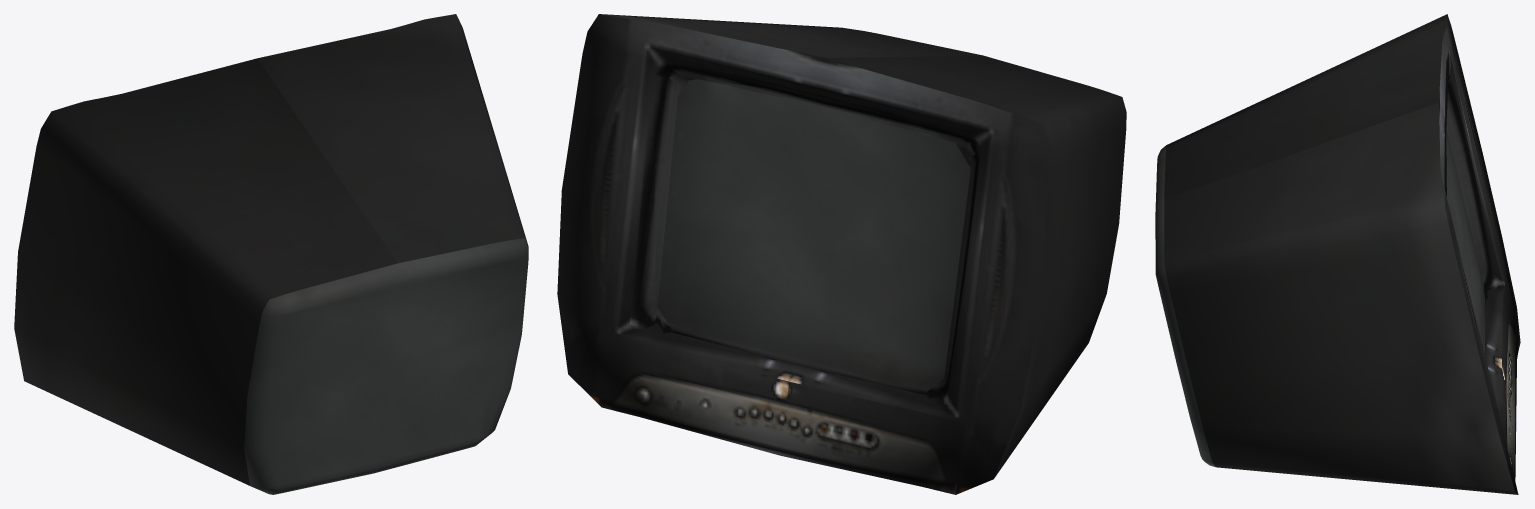
The picture shows the model from 3 angles, left to right: view 1: azimuth 30°, elevation 25°; view 2: azimuth 150°, elevation 25°; view 3: azimuth 270°, elevation 25°; orthographic projection. The views are drawn at different scales.
Parts seen in each view (by area): view 1: tv.001_props_0; view 2: tv.001_props_0; view 3: tv.001_props_0.
Part boxes in pixels (left/top/right/bottom): tv.001_props_0: left=14, top=14, right=528, bottom=494; tv.001_props_0: left=557, top=14, right=1126, bottom=494; tv.001_props_0: left=1155, top=14, right=1520, bottom=494.
Size of the model in its own units: 0.7902 by 0.5761 by 0.5934.
1 material, 1 textured.
